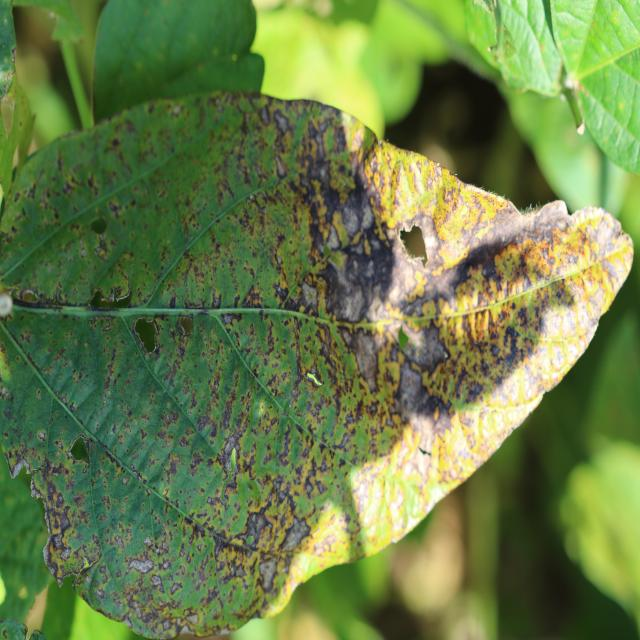Bacterial_Blight: (416, 227, 529, 327), (358, 454, 437, 551), (310, 255, 385, 348), (562, 207, 635, 296), (439, 178, 525, 242), (240, 314, 296, 404), (86, 429, 151, 492), (117, 566, 181, 625), (94, 333, 128, 404), (233, 508, 275, 551), (340, 186, 370, 234), (87, 280, 131, 311), (42, 533, 61, 579), (257, 556, 280, 593), (50, 506, 72, 537), (240, 284, 265, 310), (299, 281, 319, 312), (92, 233, 112, 263), (29, 474, 47, 502), (177, 315, 194, 341), (325, 223, 341, 248), (274, 110, 290, 134), (160, 408, 179, 428), (188, 449, 204, 471), (274, 154, 288, 179), (258, 105, 271, 125), (21, 291, 39, 304), (443, 186, 455, 204), (150, 574, 164, 588), (222, 314, 233, 325)
Soybean: (0, 0, 634, 640)
